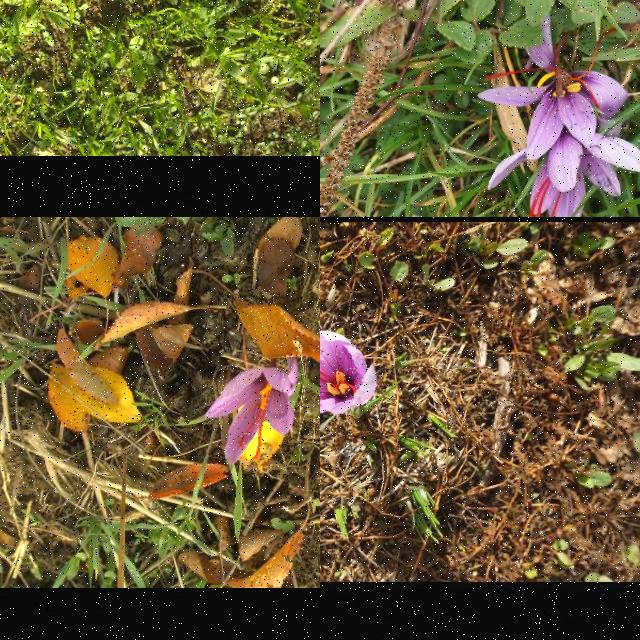flower: (205, 358, 299, 466), (320, 330, 378, 416)
overlap: (478, 18, 640, 217)
